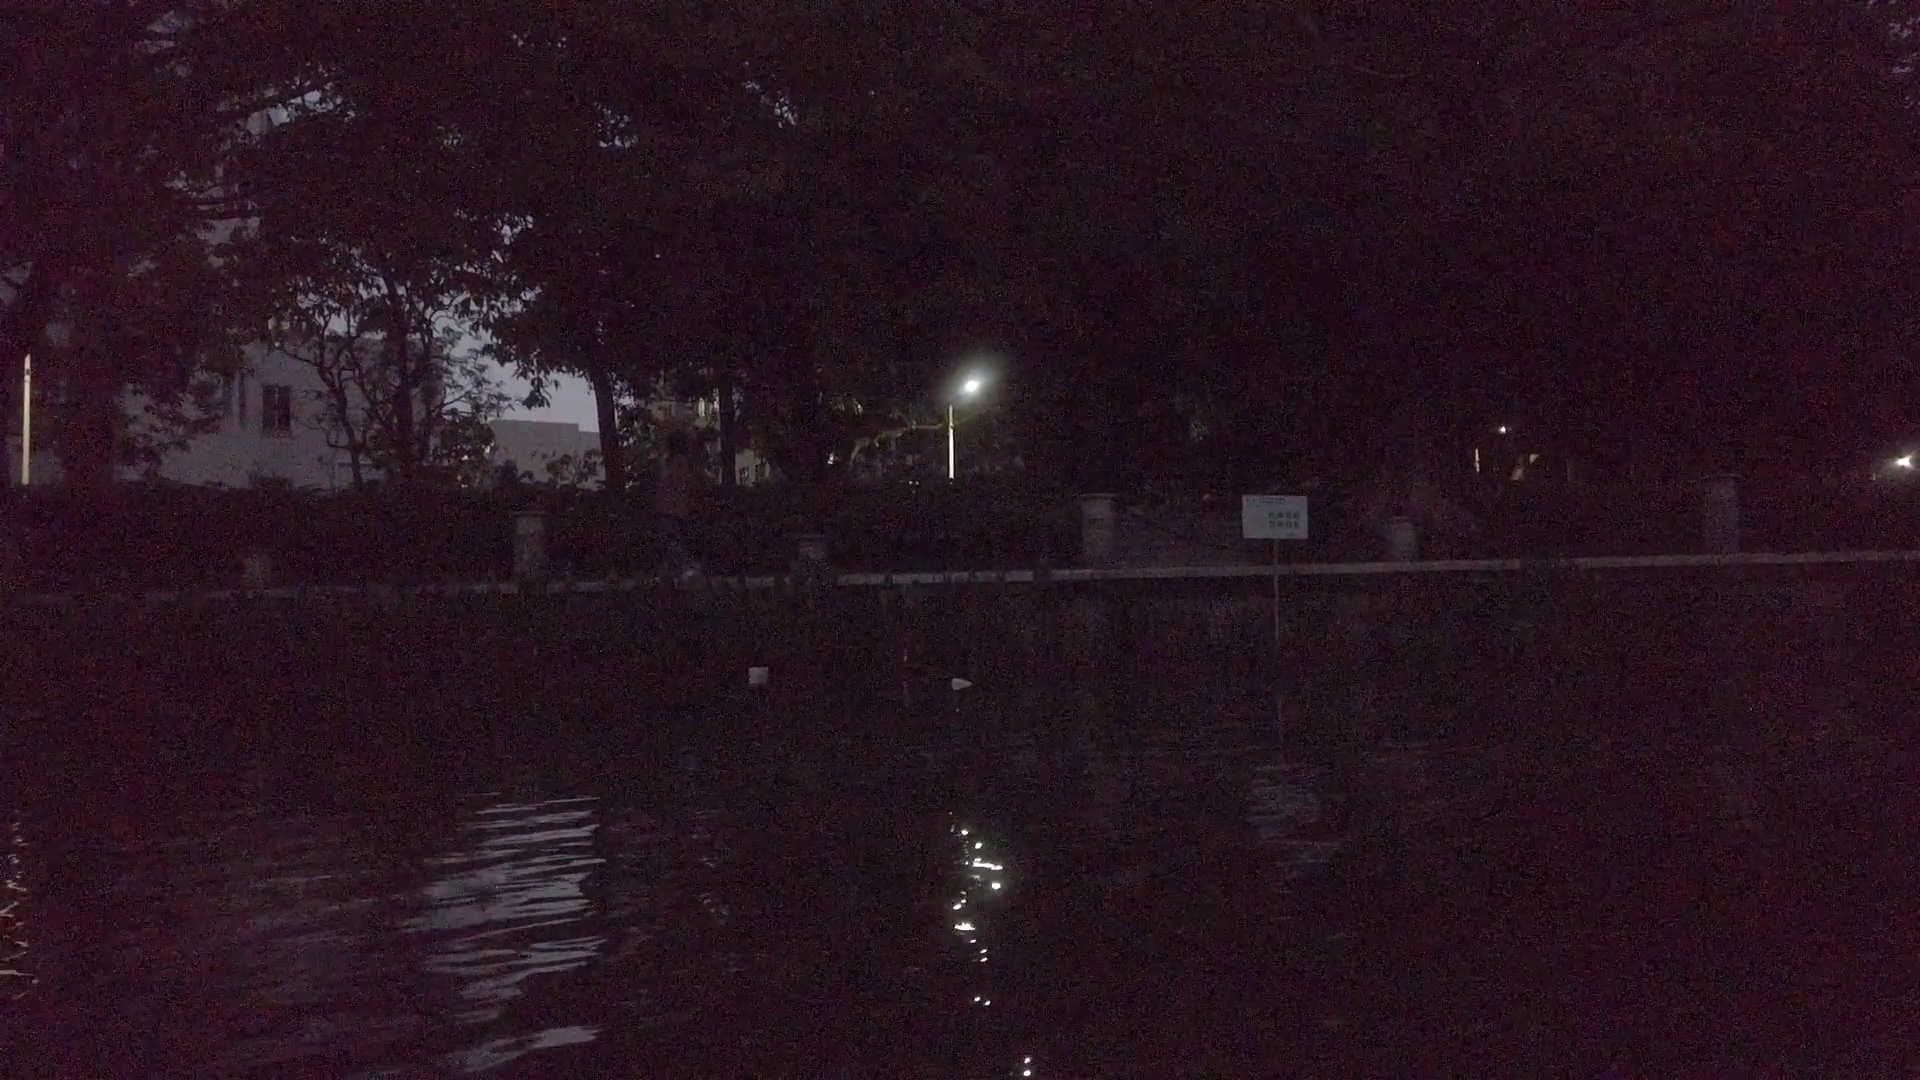carton: (746, 666, 767, 679), (949, 678, 972, 687)
